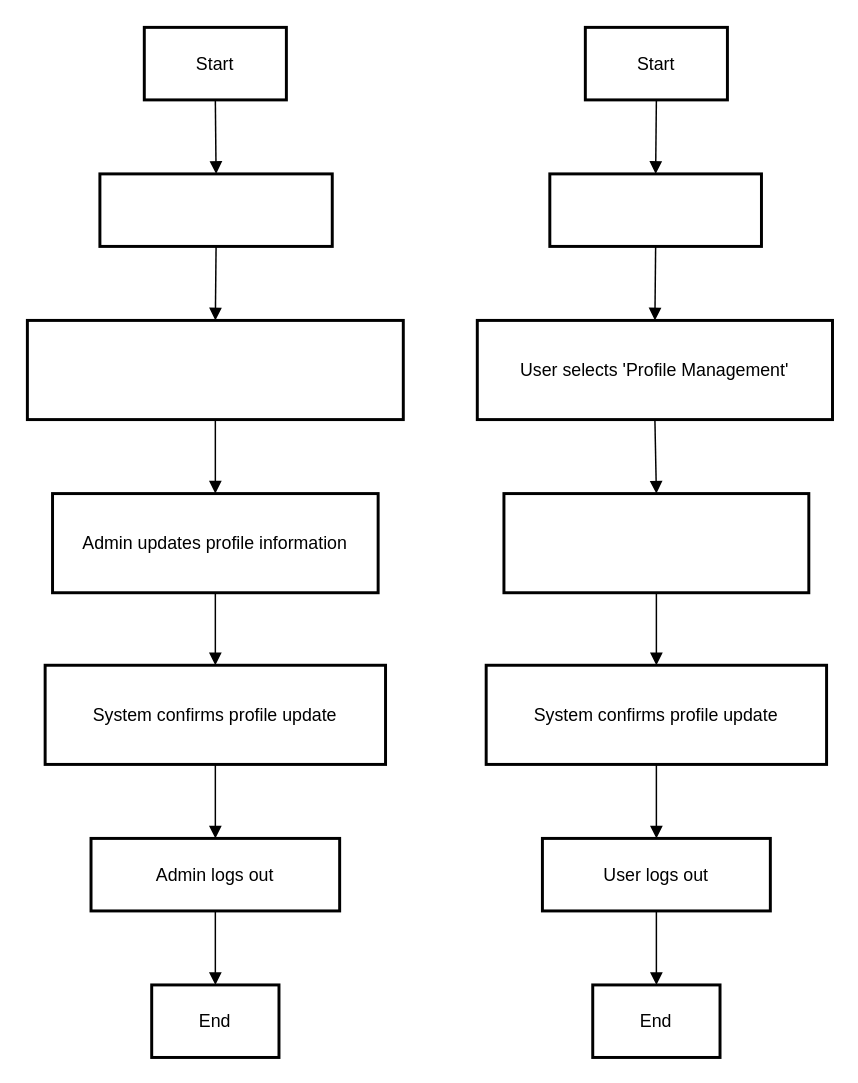
The diagram is 858 pixels wide and 1083 high, and some of its shapes have lost their labels. Each missing label, with the centre of its shape:
Admin logs in: the point at 215,209
Admin selects 'Profile Management': the point at 214,369
User logs in: the point at 655,209
User updates profile information: the point at 656,542
